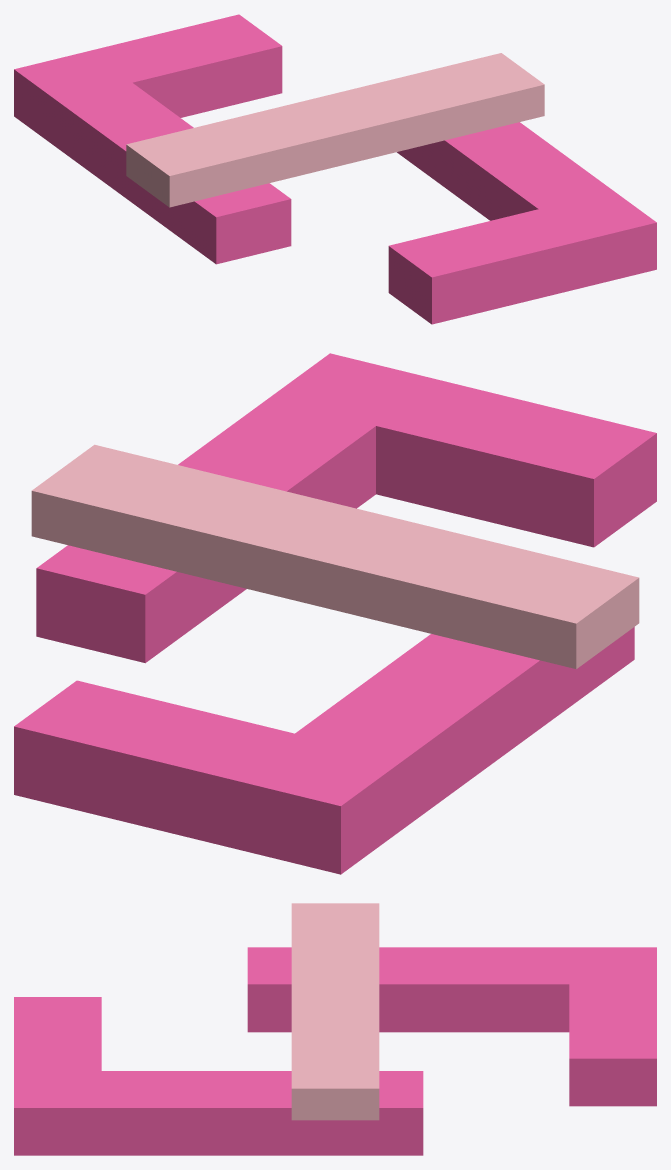
File: POSIBLES COMBINACIONES.glb
3 renders of one model, top to bottom at view 1: azimuth 30°, elevation 25°; view 2: azimuth 150°, elevation 25°; view 3: azimuth 270°, elevation 25°, orthographic. The views are drawn at different scales.
Size of the model in its own units: 75 by 15 by 110.
